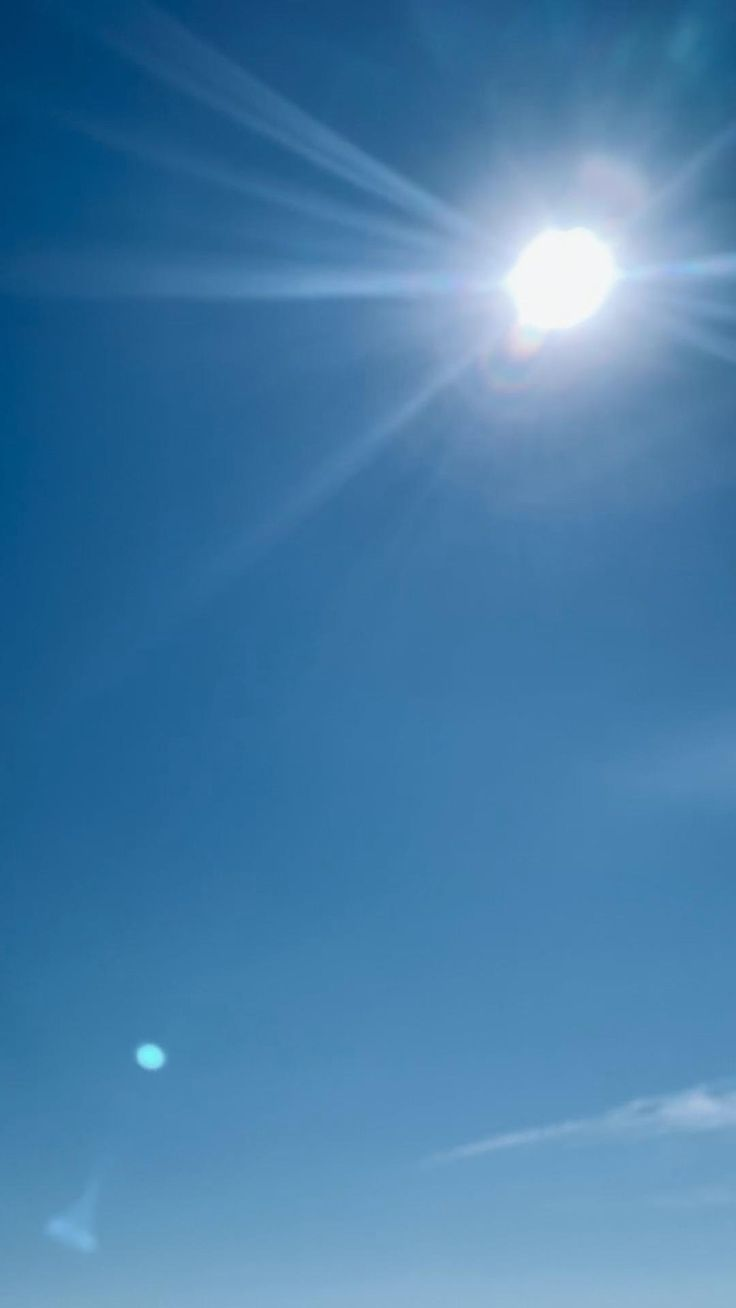sun: (481, 200, 641, 366)
